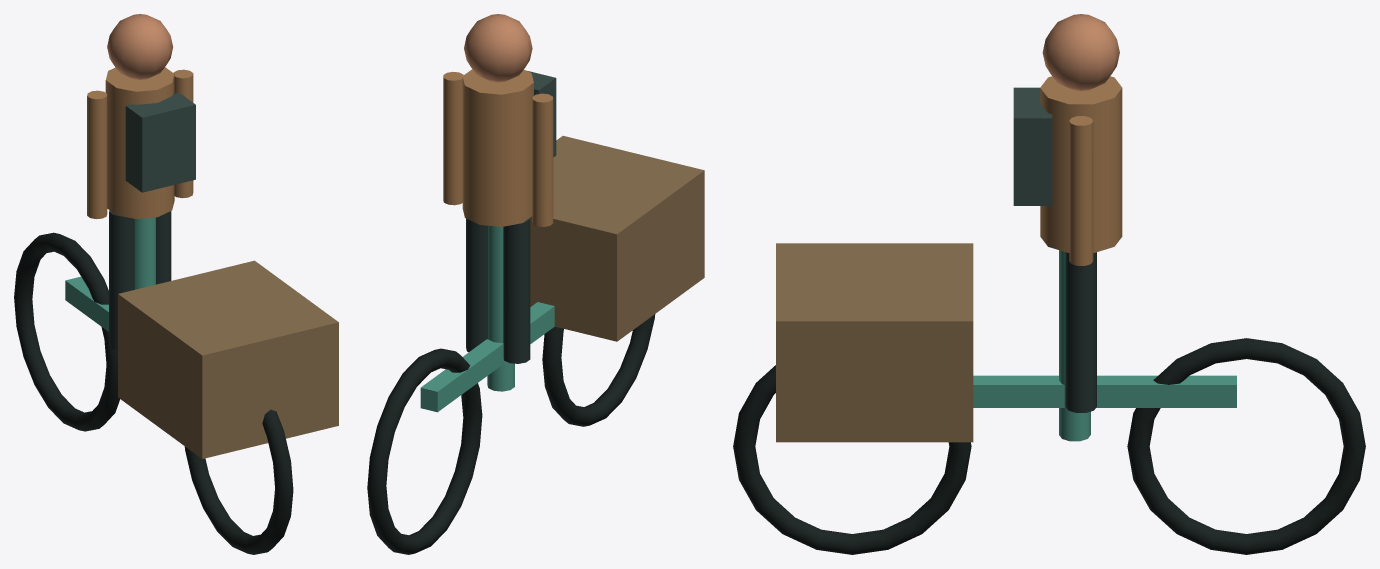
File: cargo-bike.glb
The picture shows the model from 3 angles, left to right: view 1: azimuth 30°, elevation 25°; view 2: azimuth 150°, elevation 25°; view 3: azimuth 270°, elevation 25°; orthographic projection. The views are drawn at different scales.
Visible parts, largest first — view 1: cargo-bike; view 2: cargo-bike; view 3: cargo-bike.
Part boxes in pixels (x1=…): cargo-bike: x1=14, y1=14, x2=338, y2=554; cargo-bike: x1=367, y1=14, x2=704, y2=554; cargo-bike: x1=733, y1=14, x2=1365, y2=554.
Size of the model in its own units: 0.58 by 1.86 by 1.99.
